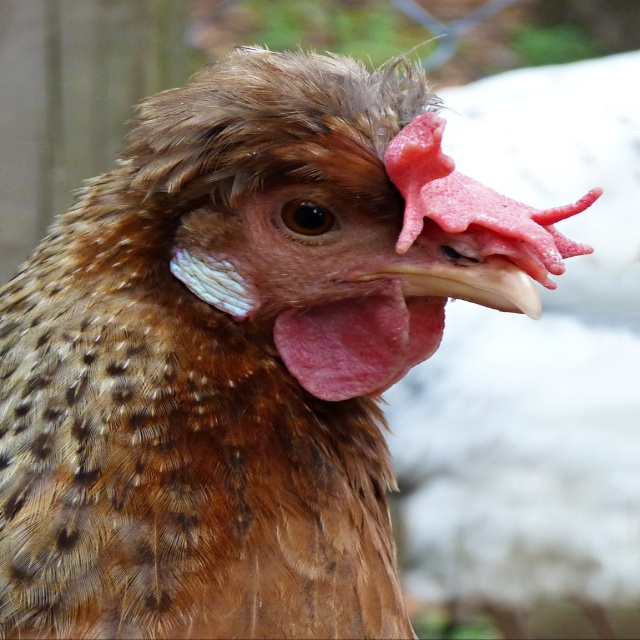Chicken: (0, 36, 601, 636)
